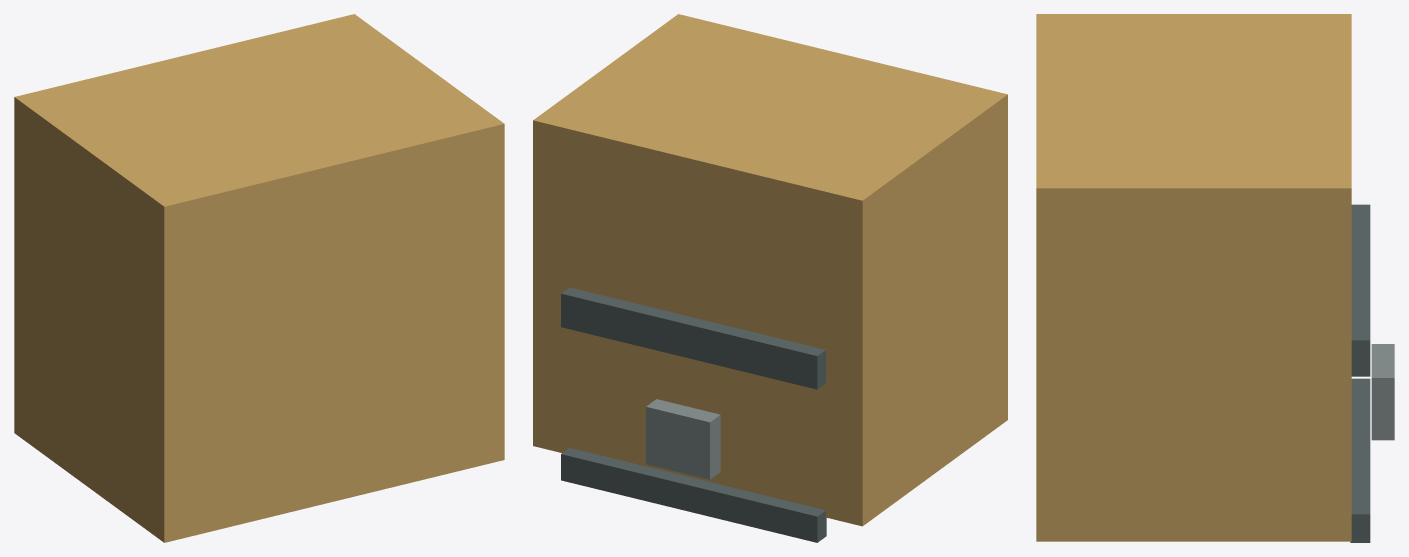
Rendered from loot_crate.glb.
The picture shows the model from 3 angles, left to right: view 1: azimuth 30°, elevation 25°; view 2: azimuth 150°, elevation 25°; view 3: azimuth 270°, elevation 25°; orthographic projection. The views are drawn at different scales.
Visible parts, largest first — view 1: loot_crate; view 2: loot_crate; view 3: loot_crate.
Boxes of the visible parts, x1=… form: loot_crate: x1=14, y1=14, x2=504, y2=542; loot_crate: x1=533, y1=14, x2=1007, y2=542; loot_crate: x1=1036, y1=14, x2=1394, y2=542.
Bounding box in the file's own units: 0.72 × 0.72 × 0.625.
